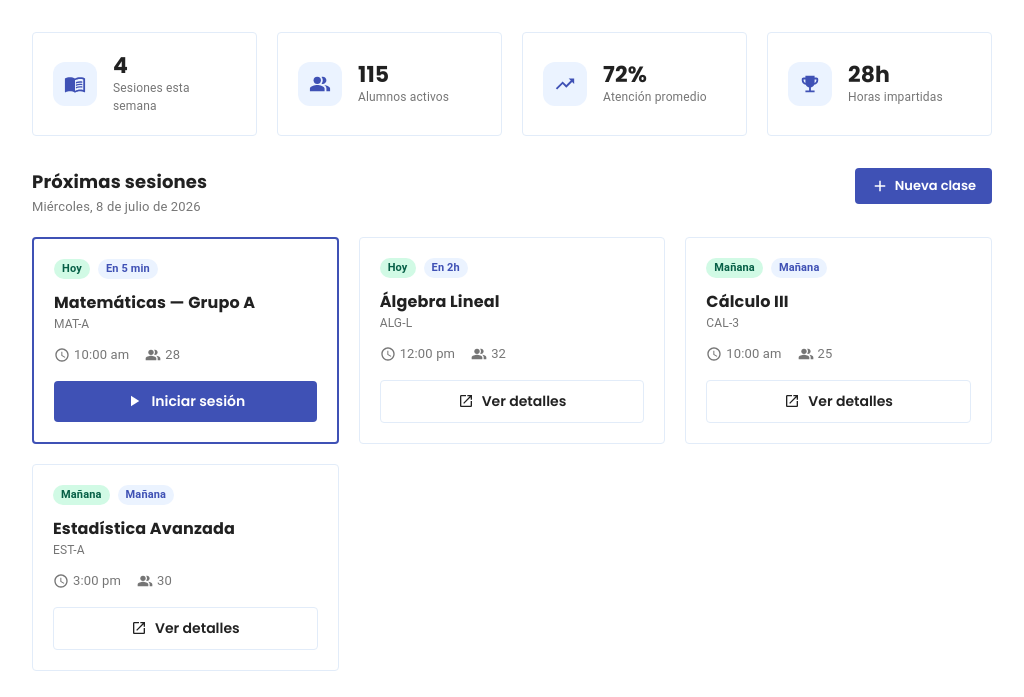
Scenario: ClassesTab › defaults the duration field to 60 minutes and rejects an invalid duration
Click the button with test id "dashboard-new-class-button" at (923, 186), box [855,168,992,204]
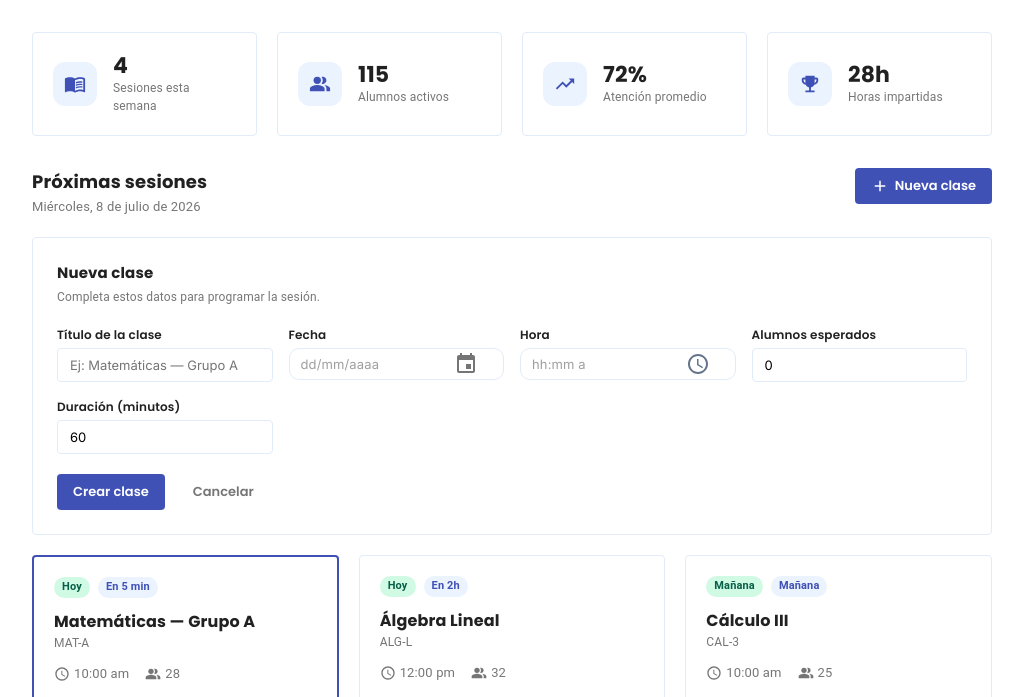
expect the number field with test id "dashboard-new-class-duration-input" holds "60": met, box [57,420,272,454]
Type "Física 101" into the field with test id "dashboard-new-class-title-input" at (165, 365), box [57,348,272,382]
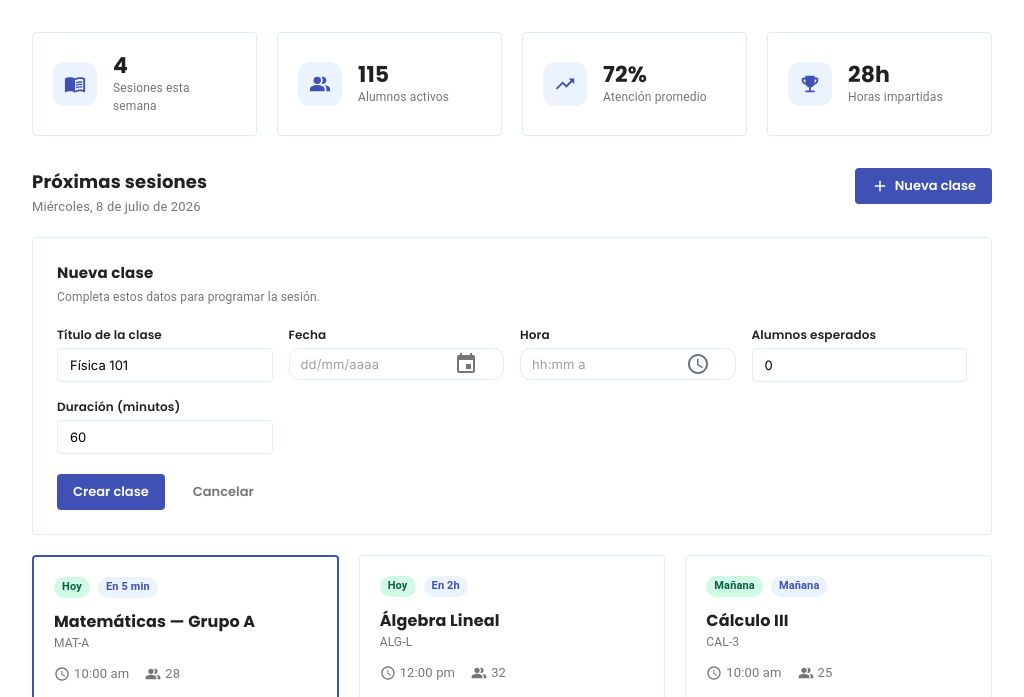
Clear the element with test id "dashboard-new-class-date-input" at (396, 364), box [288,348,504,380]
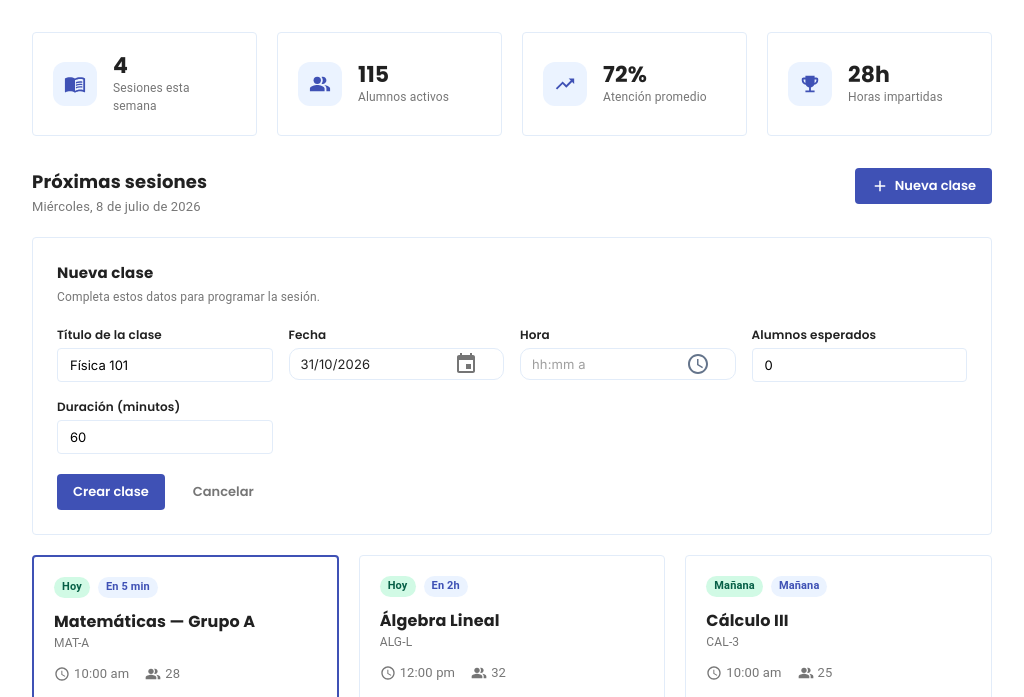
Clear the element with test id "dashboard-new-class-time-input" at (628, 364), box [520,348,736,380]
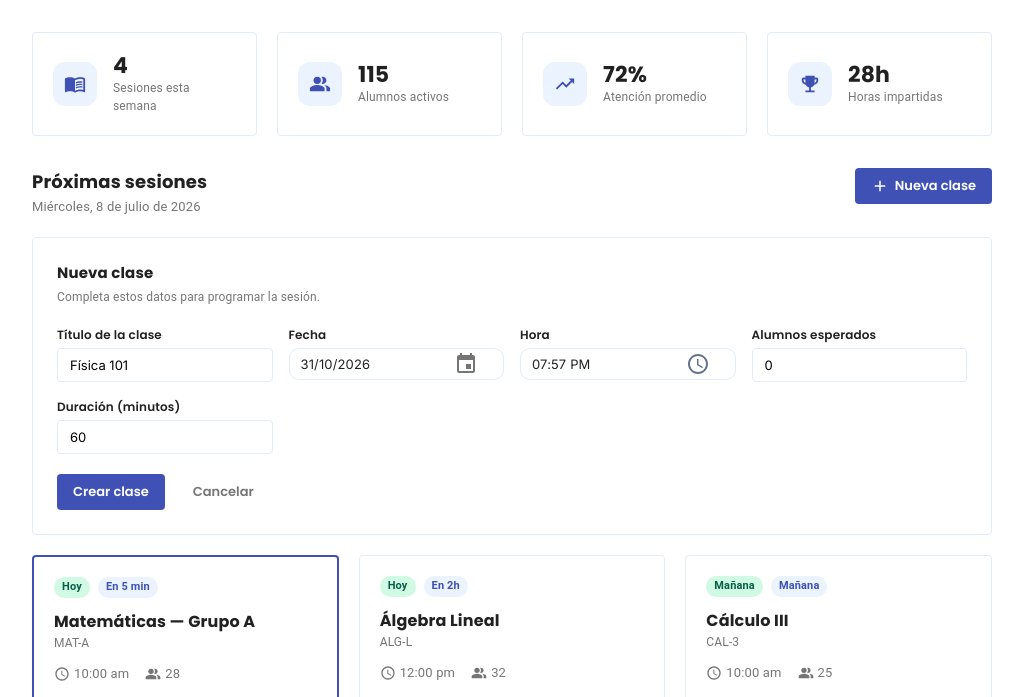
Replace the text in the number field with test id "dashboard-new-class-duration-input" with "0" at (165, 437), box [57,420,272,454]
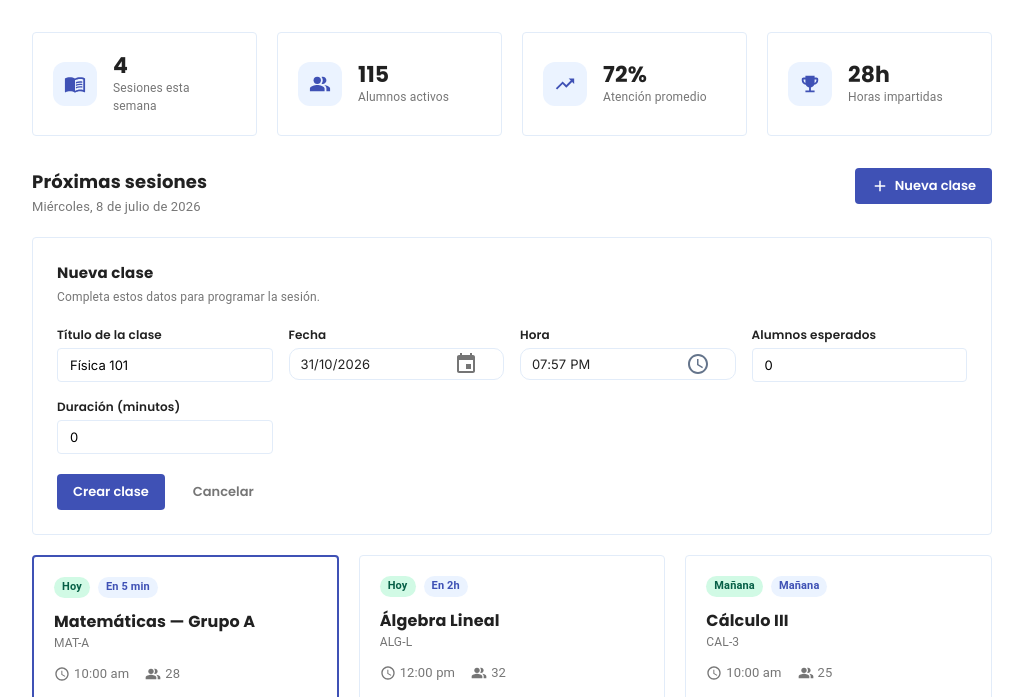
Submit the form, box [32,237,992,535]
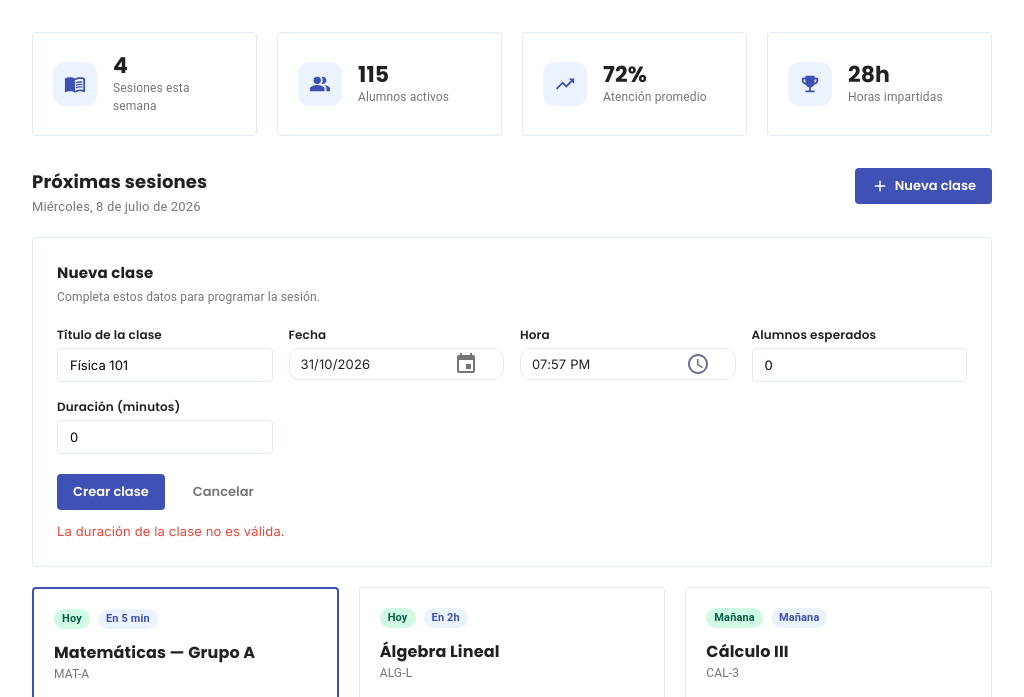
expect the text "La duración de la clase no es válida." is shown: met, box [57,523,285,539]
